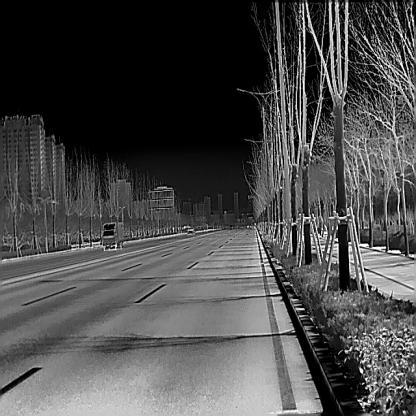car: (101, 221, 124, 250), (187, 227, 195, 234)
